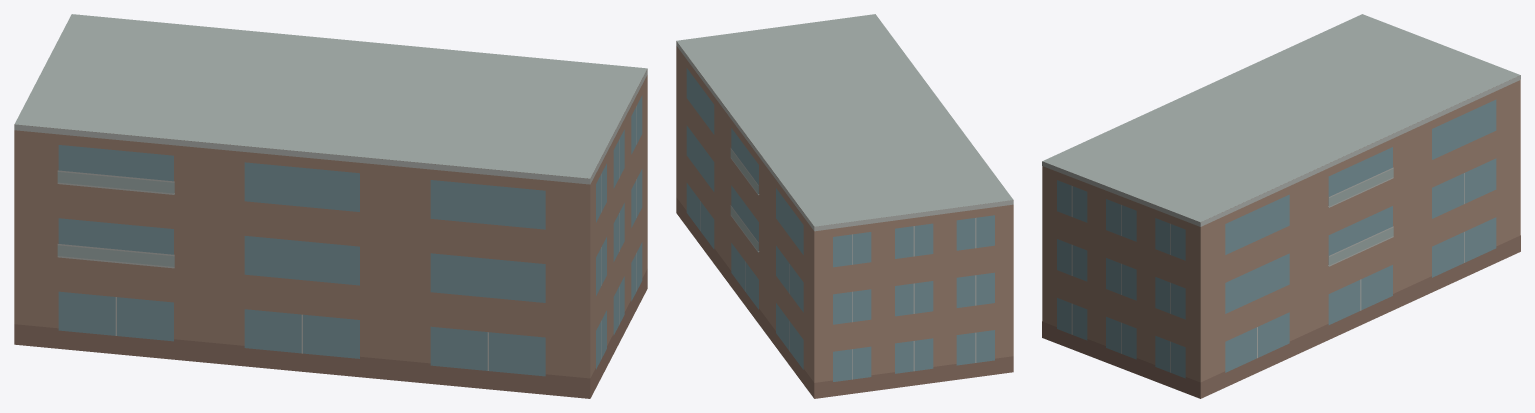
The model's file is survey-upis-32803888.glb.
3 renders of one model, left to right at view 1: azimuth 30°, elevation 25°; view 2: azimuth 150°, elevation 25°; view 3: azimuth 270°, elevation 25°, orthographic. The views are drawn at different scales.
Visible parts, largest first — view 1: survey-upis-32803888.tmp; view 2: survey-upis-32803888.tmp; view 3: survey-upis-32803888.tmp.
Boxes of the visible parts, x1=… form: survey-upis-32803888.tmp: x1=14, y1=14, x2=647, y2=398; survey-upis-32803888.tmp: x1=676, y1=14, x2=1013, y2=398; survey-upis-32803888.tmp: x1=1042, y1=14, x2=1520, y2=398.
Bounding box in the file's own units: 23.16 × 9.15 × 22.48.
